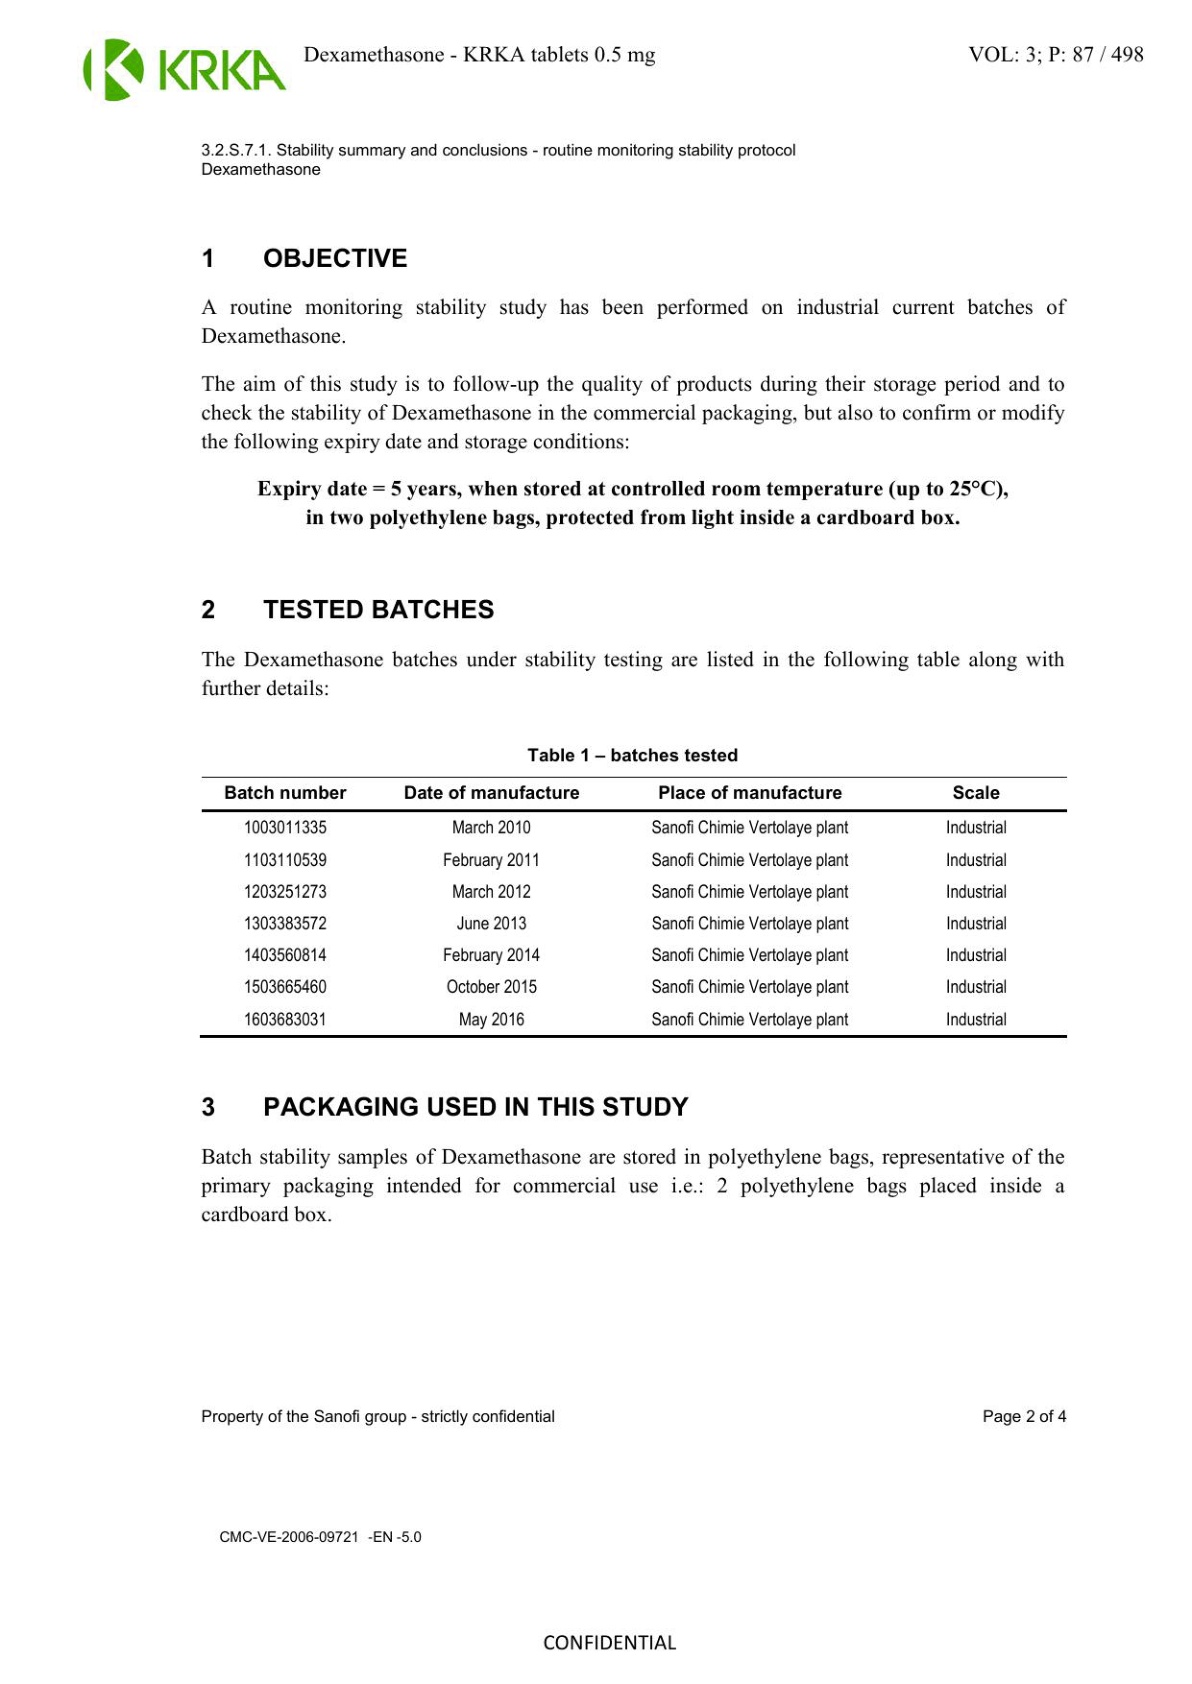partial_lined: (197, 776, 1067, 1039)
